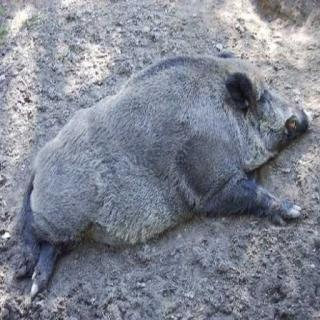Pig: (9, 20, 317, 318)
